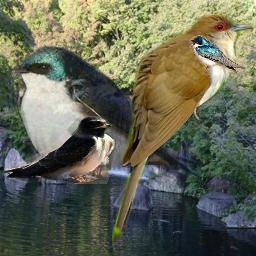Cuckoo: (112, 11, 253, 248)
Swallow: (8, 44, 203, 177), (1, 116, 116, 184), (189, 35, 246, 75)
